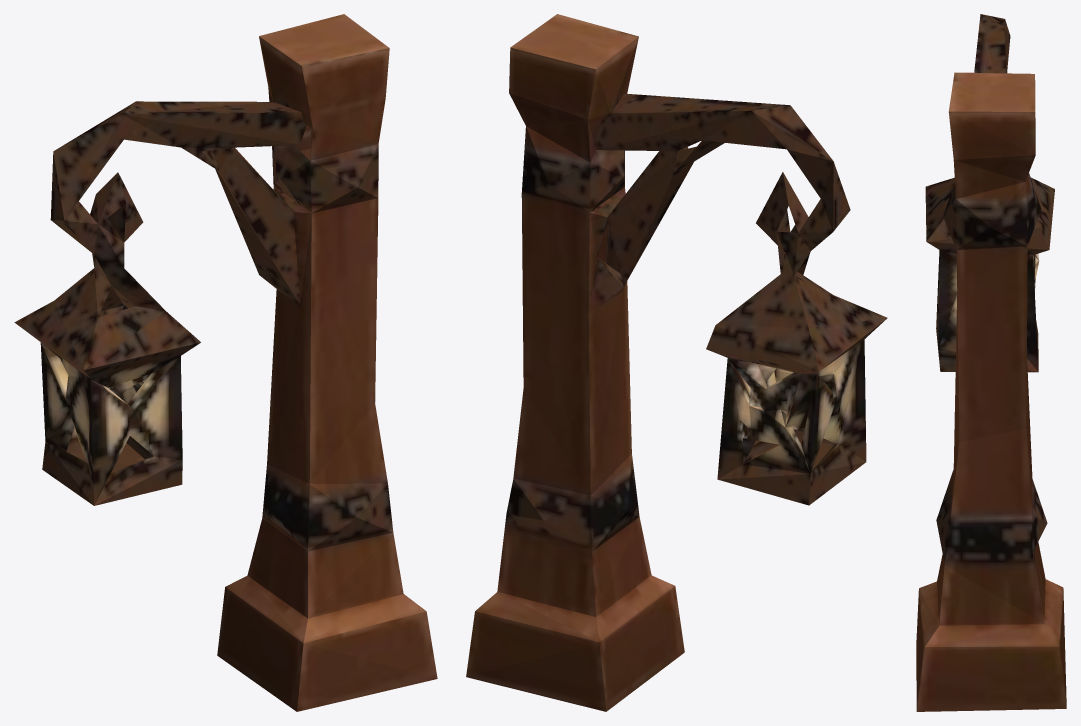
File: lamp-post.glb
3 views of the same model, side by side, from view 1: azimuth 30°, elevation 25°; view 2: azimuth 150°, elevation 25°; view 3: azimuth 270°, elevation 25° (orthographic). The views are drawn at different scales.
Visible parts, largest first — view 1: lamp-post; view 2: lamp-post; view 3: lamp-post.
Boxes of the visible parts, box(x1,y1,x2,y2) form: lamp-post: box(14, 14, 437, 711); lamp-post: box(466, 14, 887, 711); lamp-post: box(916, 14, 1066, 711).
Size of the model in its own units: 1.86 by 3.19 by 0.7411.
Materials: 1 (1 with a texture image).
